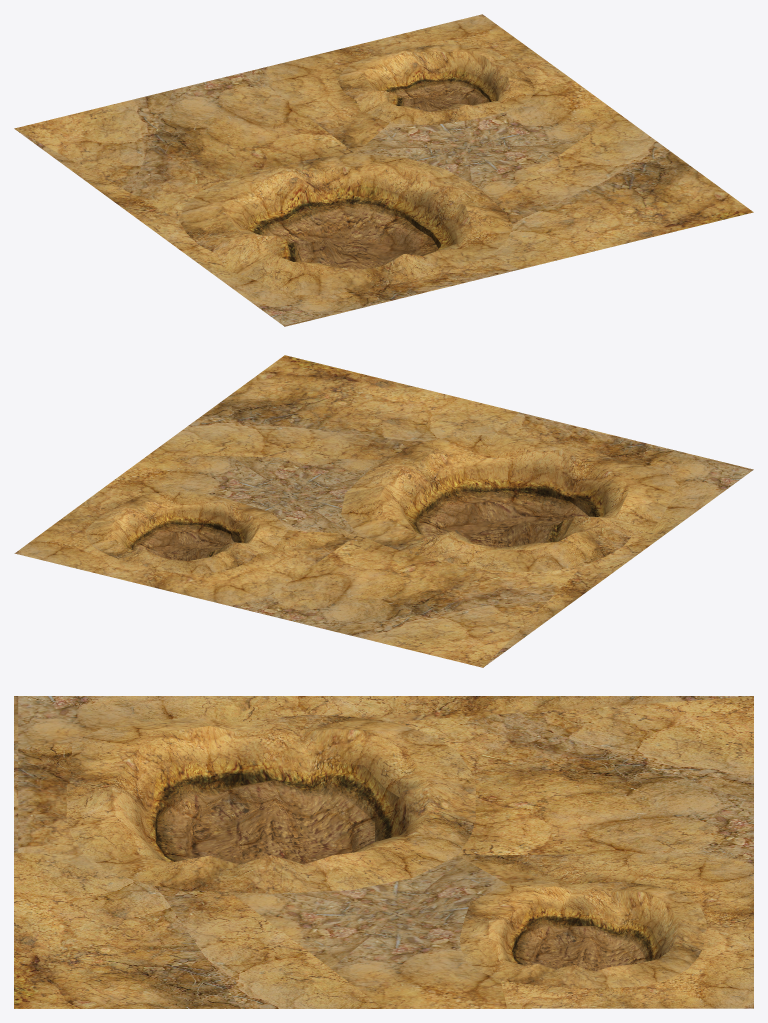
The model's file is Crater_14.fbx.
3 renders of one model, top to bottom at view 1: azimuth 30°, elevation 25°; view 2: azimuth 150°, elevation 25°; view 3: azimuth 270°, elevation 25°, orthographic. The views are drawn at different scales.
Visible parts, largest first — view 1: Crater_14; view 2: Crater_14; view 3: Crater_14.
Boxes of the visible parts, box(x1,y1,x2,y2) form: Crater_14: box(14, 14, 753, 326); Crater_14: box(14, 355, 753, 667); Crater_14: box(14, 696, 753, 1008).
Size of the model in its own units: 600 by 56.14 by 600.
